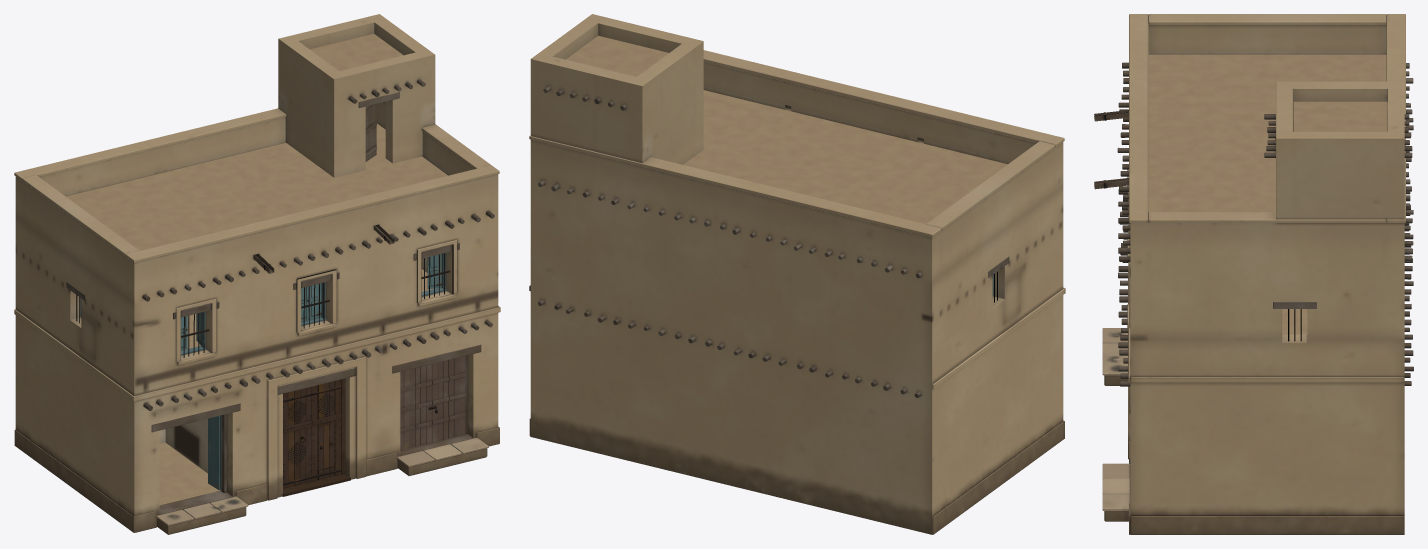
The model's file is souq_hero.glb.
3 renders of one model, left to right at view 1: azimuth 30°, elevation 25°; view 2: azimuth 150°, elevation 25°; view 3: azimuth 270°, elevation 25°, orthographic. The views are drawn at different scales.
Visible parts, largest first — view 1: GX_hero_LOD0; view 2: GX_hero_LOD0; view 3: GX_hero_LOD0.
Part boxes in pixels (x1,y1,x2,y2): GX_hero_LOD0: [14, 14, 500, 534]; GX_hero_LOD0: [529, 14, 1065, 534]; GX_hero_LOD0: [1094, 14, 1413, 534].
Size of what is drawn, in the model's own units: 11.6 by 10.35 by 7.57.
1 material, 1 textured.
